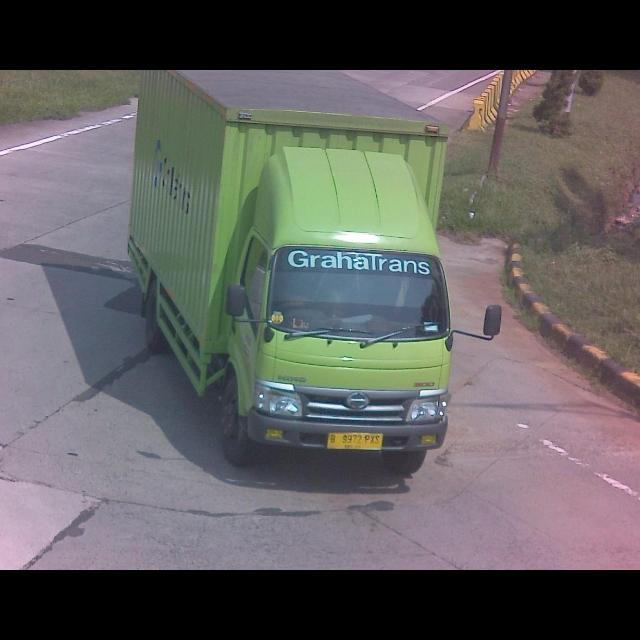plate: (327, 432, 383, 452)
